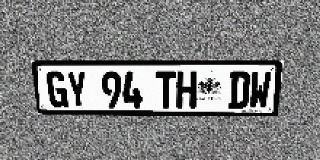4: (122, 71, 142, 108)
9: (101, 71, 122, 108)
D: (228, 71, 251, 109)
G: (46, 71, 69, 108)
H: (176, 71, 197, 108)
T: (156, 71, 176, 108)
W: (248, 71, 272, 109)
Y: (66, 71, 88, 108)
